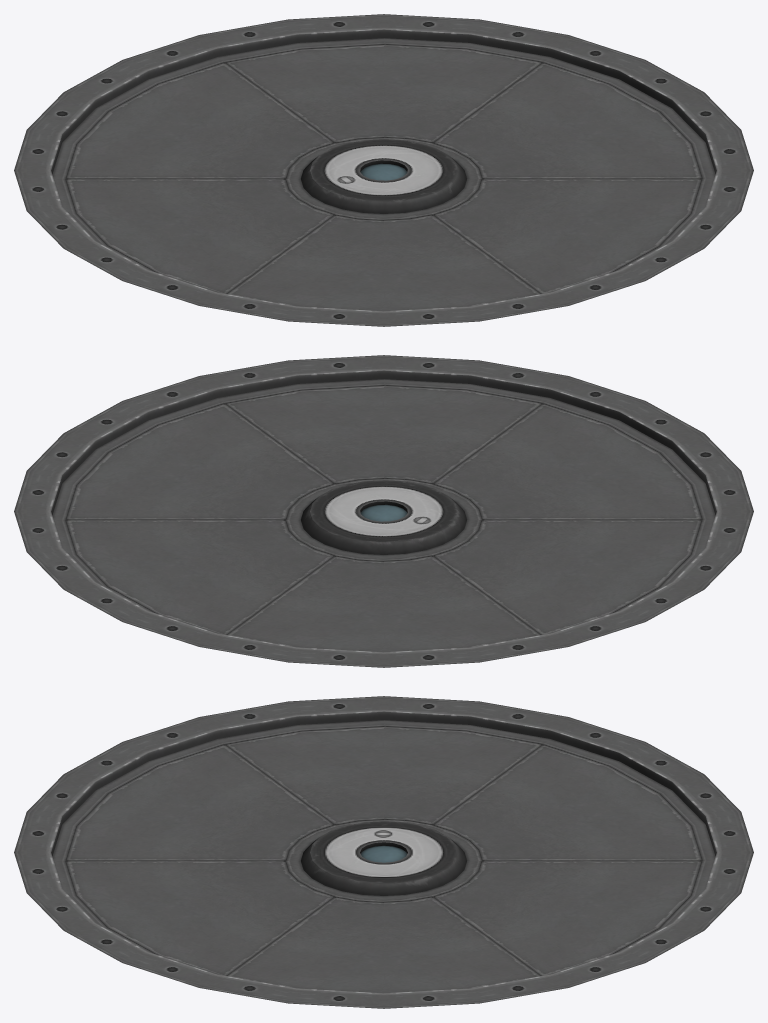
File: end_crew_s2.obj
The picture shows the model from 3 angles, top to bottom: view 1: azimuth 30°, elevation 25°; view 2: azimuth 150°, elevation 25°; view 3: azimuth 270°, elevation 25°; orthographic projection.
Parts seen in each view (by area): view 1: end; view 2: end; view 3: end.
Part boxes in pixels (bbox=[...]): end: bbox=[14, 14, 753, 326]; end: bbox=[14, 355, 753, 667]; end: bbox=[14, 696, 753, 1008].
Bounding box in the file's own units: 2.5 × 0.0313 × 2.5.
